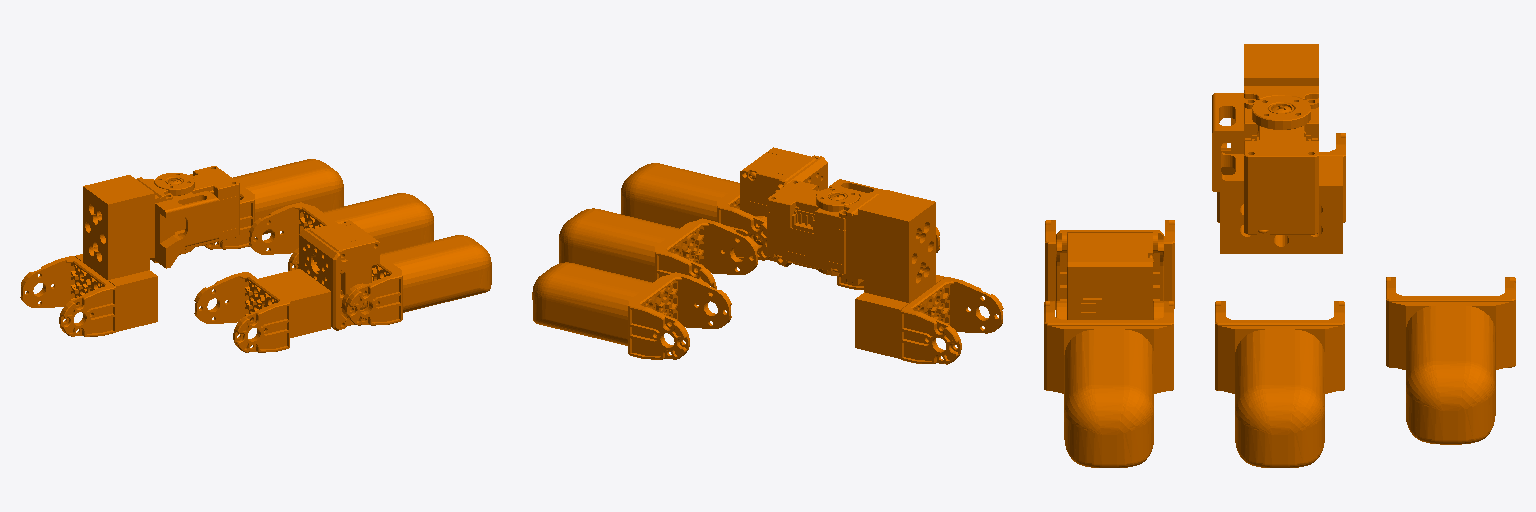
The robot description file, URDF, robot "onshape":
<robot name="onshape">
  <link name="palm_lower">
    <inertial>
      <origin xyz="0.0 0.0 0.0" rpy="0.0 -0.0 0.0"/>
      <mass value="0.237"/>
      <inertia ixx="0.000354094" ixy="-1.193e-06" ixz="-2.445e-06" iyy="0.000260915" iyz="-2.905e-06" izz="0.000529257"/>
    </inertial>
    <visual>
      <geometry>
        <mesh filename="../assets/leap/leap_hand/palm_lower.stl"/>
      </geometry>
      <origin xyz="-0.020095249652862544 0.025757756134899473 -0.034722403578460216" rpy="0.0 -0.0 0.0"/>
      <material name="palm_lower_material">
        <color rgba="0.6039215686274509 0.14901960784313725 0.14901960784313725 1.0"/>
      </material>
    </visual>
    <collision>
      <geometry>
        <mesh filename="../assets/leap/leap_hand/palm_lower.stl"/>
      </geometry>
      <origin xyz="-0.020095249652862544 0.025757756134899473 -0.034722403578460216" rpy="0.0 -0.0 0.0"/>
    </collision>
  </link>
  <link name="mcp_joint">
    <inertial>
      <origin xyz="0.0 0.0 0.0" rpy="0.0 -0.0 0.0"/>
      <mass value="0.044"/>
      <inertia ixx="1.1499e-05" ixy="3.049e-06" ixz="1.21e-07" iyy="7.796e-06" iyz="1.12e-07" izz="1.4759e-05"/>
    </inertial>
    <visual>
      <geometry>
        <mesh filename="../assets/leap/leap_hand/mcp_joint.stl"/>
      </geometry>
      <origin xyz="0.008406902261174496 0.0077662438597169954 0.014657354985032912" rpy="1.6375789613221e-15 -1.021047330249102e-30 1.7177968783327987e-31"/>
      <material name="mcp_joint_material">
        <color rgba="0.8666666666666667 0.8666666666666667 0.050980392156862744 1.0"/>
      </material>
    </visual>
    <collision>
      <geometry>
        <mesh filename="../assets/leap/leap_hand/mcp_joint.stl"/>
      </geometry>
      <origin xyz="0.008406902261174496 0.0077662438597169954 0.014657354985032912" rpy="1.6375789613221e-15 -1.021047330249102e-30 1.7177968783327987e-31"/>
    </collision>
  </link>
  <link name="pip">
    <inertial>
      <origin xyz="0.0 0.0 0.0" rpy="0.0 -0.0 0.0"/>
      <mass value="0.032"/>
      <inertia ixx="4.798e-06" ixy="1.2e-08" ixz="4e-09" iyy="2.862e-06" iyz="1.1e-08" izz="4.234e-06"/>
    </inertial>
    <visual>
      <geometry>
        <mesh filename="../assets/leap/leap_hand/pip.stl"/>
      </geometry>
      <origin xyz="0.009643363092271328 0.0002999999999999895 0.0007840340104173765" rpy="-1.5707963267948966 -1.5707963267948963 0.0"/>
      <material name="pip_material">
        <color rgba="0.7490196078431373 0.7490196078431373 0.7490196078431373 1.0"/>
      </material>
    </visual>
    <collision>
      <geometry>
        <mesh filename="../assets/leap/leap_hand/pip.stl"/>
      </geometry>
      <origin xyz="0.009643363092271328 0.0002999999999999895 0.0007840340104173765" rpy="-1.5707963267948966 -1.5707963267948963 0.0"/>
    </collision>
  </link>
  <link name="dip">
    <inertial>
      <origin xyz="0.0 0.0 0.0" rpy="0.0 -0.0 0.0"/>
      <mass value="0.037"/>
      <inertia ixx="5.542e-06" ixy="-6.07e-07" ixz="-1.7e-08" iyy="5.727e-06" iyz="-2.3e-08" izz="6.682e-06"/>
    </inertial>
    <visual>
      <geometry>
        <mesh filename="../assets/leap/leap_hand/dip.stl"/>
      </geometry>
      <origin xyz="0.021133352895225003 -0.00843211914670488 0.00978508816209524" rpy="-3.141592653589793 4.507511124216441e-32 4.439548105392361e-32"/>
      <material name="dip_material">
        <color rgba="0.8666666666666667 0.8666666666666667 0.050980392156862744 1.0"/>
      </material>
    </visual>
    <collision>
      <geometry>
        <mesh filename="../assets/leap/leap_hand/dip.stl"/>
      </geometry>
      <origin xyz="0.021133352895225003 -0.00843211914670488 0.00978508816209524" rpy="-3.141592653589793 4.507511124216441e-32 4.439548105392361e-32"/>
    </collision>
  </link>
  <link name="fingertip_long">
    <inertial>
      <origin xyz="0.0 0.0 0.0" rpy="0.0 -0.0 0.0"/>
      <mass value="0.016"/>
      <inertia ixx="3.368e-06" ixy="1.15e-07" ixz="0.0" iyy="1.556e-06" iyz="0.0" izz="2.863e-06"/>
    </inertial>
    <visual>
      <geometry>
        <mesh filename="custom_models/fingertip_long.stl"/>
      </geometry>
      <origin xyz="0.013286424108533503 -0.006114238386541987 0.014499999999999498" rpy="3.141592653589793 1.1993117970061735e-33 4.439548105392361e-32"/>
      <material name="fingertip_material">
        <color rgba="0.878 0.467 0.0 1.0"/>
      </material>
    </visual>
    <collision>
      <geometry>
        <mesh filename="custom_models/fingertip_long.stl"/>
      </geometry>
      <origin xyz="0.013286424108533503 -0.006114238386541987 0.014499999999999498" rpy="3.141592653589793 1.1993117970061735e-33 4.439548105392361e-32"/>
    </collision>
  </link>
  <link name="pip_4">
    <inertial>
      <origin xyz="0.0 0.0 0.0" rpy="0.0 -0.0 0.0"/>
      <mass value="0.032"/>
      <inertia ixx="4.798e-06" ixy="1.2e-08" ixz="4e-09" iyy="2.862e-06" iyz="1.1e-08" izz="4.234e-06"/>
    </inertial>
    <visual>
      <geometry>
        <mesh filename="../assets/leap/leap_hand/pip.stl"/>
      </geometry>
      <origin xyz="-0.005356636907728671 0.0002999999999999999 0.0007840340104173782" rpy="-1.5707963267948966 -1.5707963267948963 0.0"/>
      <material name="pip_material">
        <color rgba="0.7490196078431373 0.7490196078431373 0.7490196078431373 1.0"/>
      </material>
    </visual>
    <collision>
      <geometry>
        <mesh filename="../assets/leap/leap_hand/pip.stl"/>
      </geometry>
      <origin xyz="-0.005356636907728671 0.0002999999999999999 0.0007840340104173782" rpy="-1.5707963267948966 -1.5707963267948963 0.0"/>
    </collision>
  </link>
  <link name="thumb_pip">
    <inertial>
      <origin xyz="0.0 0.0 0.0" rpy="0.0 -0.0 0.0"/>
      <mass value="0.003"/>
      <inertia ixx="5.93e-07" ixy="0.0" ixz="0.0" iyy="5.49e-07" iyz="0.0" izz="2.24e-07"/>
    </inertial>
    <visual>
      <geometry>
        <mesh filename="../assets/leap/leap_hand/thumb_pip.stl"/>
      </geometry>
      <origin xyz="0.011961920770611187 -5.30825383648903e-16 -0.0158526489566642" rpy="1.5707963267948966 1.6050198443300153e-46 -3.9204996250525193e-59"/>
      <material name="thumb_pip_material">
        <color rgba="0.8666666666666667 0.8666666666666667 0.050980392156862744 1.0"/>
      </material>
    </visual>
    <collision>
      <geometry>
        <mesh filename="../assets/leap/leap_hand/thumb_pip.stl"/>
      </geometry>
      <origin xyz="0.011961920770611187 -5.30825383648903e-16 -0.0158526489566642" rpy="1.5707963267948966 1.6050198443300153e-46 -3.9204996250525193e-59"/>
    </collision>
  </link>
  <link name="thumb_dip">
    <inertial>
      <origin xyz="0.0 0.0 0.0" rpy="0.0 -0.0 0.0"/>
      <mass value="0.038"/>
      <inertia ixx="8.474e-06" ixy="2.41e-07" ixz="2.6e-08" iyy="3.841e-06" iyz="2.5e-08" izz="7.679e-06"/>
    </inertial>
    <visual>
      <geometry>
        <mesh filename="../assets/leap/leap_hand/thumb_dip.stl"/>
      </geometry>
      <origin xyz="0.043968715707239175 0.0579529529737092 -0.008628676449369476" rpy="1.94289029309401e-16 3.27515792264422e-15 1.112375852965736e-46"/>
      <material name="thumb_dip_material">
        <color rgba="0.8666666666666667 0.8666666666666667 0.050980392156862744 1.0"/>
      </material>
    </visual>
    <collision>
      <geometry>
        <mesh filename="../assets/leap/leap_hand/thumb_dip.stl"/>
      </geometry>
      <origin xyz="0.043968715707239175 0.0579529529737092 -0.008628676449369476" rpy="1.94289029309401e-16 3.27515792264422e-15 1.112375852965736e-46"/>
    </collision>
  </link>
  <link name="thumb_fingertip">
    <inertial>
      <origin xyz="0.0 0.0 0.0" rpy="0.0 -0.0 0.0"/>
      <mass value="0.049"/>
      <inertia ixx="2.0372e-05" ixy="-4.89e-07" ixz="-3e-08" iyy="4.336e-06" iyz="-9.7e-08" izz="1.9845e-05"/>
    </inertial>
    <visual>
      <geometry>
        <mesh filename="../assets/leap/leap_hand/thumb_fingertip.stl"/>
      </geometry>
      <origin xyz="0.06255953846266739 0.07845968291139699 0.048992911807332215" rpy="4.379057701015637e-47 -3.33066907387547e-16 1.2042408677791935e-46"/>
      <material name="thumb_fingertip_material">
        <color rgba="0.6039215686274509 0.14901960784313725 0.14901960784313725 1.0"/>
      </material>
    </visual>
    <collision>
      <geometry>
        <mesh filename="../assets/leap/leap_hand/thumb_fingertip.stl"/>
      </geometry>
      <origin xyz="0.06255953846266739 0.07845968291139699 0.048992911807332215" rpy="4.379057701015637e-47 -3.33066907387547e-16 1.2042408677791935e-46"/>
    </collision>
  </link>
  <link name="mcp_joint_2_long">
    <inertial>
      <origin xyz="0.0 0.0 0.0" rpy="0.0 -0.0 0.0"/>
      <mass value="0.044"/>
      <inertia ixx="1.1499e-05" ixy="3.049e-06" ixz="1.21e-07" iyy="7.796e-06" iyz="1.12e-07" izz="1.4759e-05"/>
    </inertial>
    <visual>
      <geometry>
        <mesh filename="custom_models/mcp_joint_long.stl"/>
      </geometry>
      <origin xyz="0.008406902261174496 0.0077662438597169954 0.014657354985032914" rpy="1.6375789613221e-15 -1.0076465469034e-30 2.1209300131419907e-61"/>
      <material name="mcp_joint_material">
        <color rgba="0.878 0.467 0.0 1.0"/>
      </material>
    </visual>
    <collision>
      <geometry>
        <mesh filename="custom_models/mcp_joint_long.stl"/>
      </geometry>
      <origin xyz="0.008406902261174496 0.0077662438597169954 0.014657354985032914" rpy="1.6375789613221e-15 -1.0076465469034e-30 2.1209300131419907e-61"/>
    </collision>
  </link>
  <link name="pip_2">
    <inertial>
      <origin xyz="0.0 0.0 0.0" rpy="0.0 -0.0 0.0"/>
      <mass value="0.032"/>
      <inertia ixx="4.798e-06" ixy="1.2e-08" ixz="4e-09" iyy="2.862e-06" iyz="1.1e-08" izz="4.234e-06"/>
    </inertial>
    <visual>
      <geometry>
        <mesh filename="../assets/leap/leap_hand/pip.stl"/>
      </geometry>
      <origin xyz="0.009643363092271328 0.0002999999999999947 0.0007840340104173765" rpy="-1.5707963267948966 -1.5707963267948963 0.0"/>
      <material name="pip_material">
        <color rgba="0.7490196078431373 0.7490196078431373 0.7490196078431373 1.0"/>
      </material>
    </visual>
    <collision>
      <geometry>
        <mesh filename="../assets/leap/leap_hand/pip.stl"/>
      </geometry>
      <origin xyz="0.009643363092271328 0.0002999999999999947 0.0007840340104173765" rpy="-1.5707963267948966 -1.5707963267948963 0.0"/>
    </collision>
  </link>
  <link name="dip_2">
    <inertial>
      <origin xyz="0.0 0.0 0.0" rpy="0.0 -0.0 0.0"/>
      <mass value="0.037"/>
      <inertia ixx="5.542e-06" ixy="-6.07e-07" ixz="-1.7e-08" iyy="5.727e-06" iyz="-2.3e-08" izz="6.682e-06"/>
    </inertial>
    <visual>
      <geometry>
        <mesh filename="../assets/leap/leap_hand/dip.stl"/>
      </geometry>
      <origin xyz="0.021133352895225003 -0.008432119146704865 0.009785088162095237" rpy="-3.141592653589793 2.1146933785271956e-32 1.4408183216511869e-31"/>
      <material name="dip_material">
        <color rgba="0.8666666666666667 0.8666666666666667 0.050980392156862744 1.0"/>
      </material>
    </visual>
    <collision>
      <geometry>
        <mesh filename="../assets/leap/leap_hand/dip.stl"/>
      </geometry>
      <origin xyz="0.021133352895225003 -0.008432119146704865 0.009785088162095237" rpy="-3.141592653589793 2.1146933785271956e-32 1.4408183216511869e-31"/>
    </collision>
  </link>
  <link name="fingertip_2_long">
    <inertial>
      <origin xyz="0.0 0.0 0.0" rpy="0.0 -0.0 0.0"/>
      <mass value="0.016"/>
      <inertia ixx="3.368e-06" ixy="1.15e-07" ixz="0.0" iyy="1.556e-06" iyz="0.0" izz="2.863e-06"/>
    </inertial>
    <visual>
      <geometry>
        <mesh filename="custom_models/fingertip_long.stl"/>
      </geometry>
      <origin xyz="0.013286424108533496 -0.006114238386542001 0.014499999999999496" rpy="3.141592653589793 -4.317959788283594e-33 1.4408183216511869e-31"/>
      <material name="fingertip_material">
        <color rgba="0.878 0.467 0.0 1.0"/>
      </material>
    </visual>
    <collision>
      <geometry>
        <mesh filename="custom_models/fingertip_long.stl"/>
      </geometry>
      <origin xyz="0.013286424108533496 -0.006114238386542001 0.014499999999999496" rpy="3.141592653589793 -4.317959788283594e-33 1.4408183216511869e-31"/>
    </collision>
  </link>
  <link name="mcp_joint_3">
    <inertial>
      <origin xyz="0.0 0.0 0.0" rpy="0.0 -0.0 0.0"/>
      <mass value="0.044"/>
      <inertia ixx="1.1499e-05" ixy="3.049e-06" ixz="1.21e-07" iyy="7.796e-06" iyz="1.12e-07" izz="1.4759e-05"/>
    </inertial>
    <visual>
      <geometry>
        <mesh filename="../assets/leap/leap_hand/mcp_joint.stl"/>
      </geometry>
      <origin xyz="0.0084069022611745 0.007766243859716996 0.014657354985032914" rpy="1.6375789613221e-15 -1.0059504988632627e-30 5.729641584552035e-32"/>
      <material name="mcp_joint_material">
        <color rgba="0.8666666666666667 0.8666666666666667 0.050980392156862744 1.0"/>
      </material>
    </visual>
    <collision>
      <geometry>
        <mesh filename="../assets/leap/leap_hand/mcp_joint.stl"/>
      </geometry>
      <origin xyz="0.0084069022611745 0.007766243859716996 0.014657354985032914" rpy="1.6375789613221e-15 -1.0059504988632627e-30 5.729641584552035e-32"/>
    </collision>
  </link>
  <link name="pip_3">
    <inertial>
      <origin xyz="0.0 0.0 0.0" rpy="0.0 -0.0 0.0"/>
      <mass value="0.032"/>
      <inertia ixx="4.798e-06" ixy="1.2e-08" ixz="4e-09" iyy="2.862e-06" iyz="1.1e-08" izz="4.234e-06"/>
    </inertial>
    <visual>
      <geometry>
        <mesh filename="../assets/leap/leap_hand/pip.stl"/>
      </geometry>
      <origin xyz="0.009643363092271331 0.00029999999999998084 0.0007840340104173765" rpy="-1.5707963267948966 -1.5707963267948963 0.0"/>
      <material name="pip_material">
        <color rgba="0.7490196078431373 0.7490196078431373 0.7490196078431373 1.0"/>
      </material>
    </visual>
    <collision>
      <geometry>
        <mesh filename="../assets/leap/leap_hand/pip.stl"/>
      </geometry>
      <origin xyz="0.009643363092271331 0.00029999999999998084 0.0007840340104173765" rpy="-1.5707963267948966 -1.5707963267948963 0.0"/>
    </collision>
  </link>
  <link name="dip_3_long">
    <inertial>
      <origin xyz="0.0 0.0 0.0" rpy="0.0 -0.0 0.0"/>
      <mass value="0.037"/>
      <inertia ixx="5.542e-06" ixy="-6.07e-07" ixz="-1.7e-08" iyy="5.727e-06" iyz="-2.3e-08" izz="6.682e-06"/>
    </inertial>
    <visual>
      <geometry>
        <mesh filename="custom_models/dip_long.stl"/>
      </geometry>
      <origin xyz="0.021133352895225006 -0.008432119146704865 0.009785088162095237" rpy="-3.141592653589793 -1.4095651113919093e-33 1.5565411607615035e-32"/>
      <material name="dip_material">
        <color rgba="0.878 0.467 0.0 1.0"/>
      </material>
    </visual>
    <collision>
      <geometry>
        <mesh filename="custom_models/dip_long.stl"/>
      </geometry>
      <origin xyz="0.021133352895225006 -0.008432119146704865 0.009785088162095237" rpy="-3.141592653589793 -1.4095651113919093e-33 1.5565411607615035e-32"/>
    </collision>
  </link>
  <link name="fingertip_3_long">
    <inertial>
      <origin xyz="0.0 0.0 0.0" rpy="0.0 -0.0 0.0"/>
      <mass value="0.016"/>
      <inertia ixx="3.368e-06" ixy="1.15e-07" ixz="0.0" iyy="1.556e-06" iyz="0.0" izz="2.863e-06"/>
    </inertial>
    <visual>
      <geometry>
        <mesh filename="custom_models/fingertip_long.stl"/>
      </geometry>
      <origin xyz="0.013286424108533501 -0.006114238386541987 0.0144999999999995" rpy="3.141592653589793 8.61707169505754e-33 1.5565411607615035e-32"/>
      <material name="fingertip_material">
        <color rgba="0.878 0.467 0.0 1.0"/>
      </material>
    </visual>
    <collision>
      <geometry>
        <mesh filename="custom_models/fingertip_long.stl"/>
      </geometry>
      <origin xyz="0.013286424108533501 -0.006114238386541987 0.0144999999999995" rpy="3.141592653589793 8.61707169505754e-33 1.5565411607615035e-32"/>
    </collision>
  </link>
  <joint name="1" type="revolute">
    <parent link="palm_lower"/>
    <child link="mcp_joint"/>
    <origin xyz="-0.007095249652862546 0.023057756134899472 -0.01872240357846022" rpy="1.570796326794895 1.5707963267948946 0.0"/>
    <axis xyz="0.0 0.0 -1.0"/>
    <limit effort="0.95" velocity="8.48" lower="-0.314" upper="2.23"/>
  </joint>
  <joint name="0" type="revolute">
    <parent link="mcp_joint"/>
    <child link="pip"/>
    <origin xyz="-0.012200000000000008 0.038099999999999995 0.0145" rpy="-1.5707963267948966 -1.0065212660796337e-15 1.5707963267948943"/>
    <axis xyz="0.0 0.0 -1.0"/>
    <limit effort="0.95" velocity="8.48" lower="-1.047" upper="1.047"/>
  </joint>
  <joint name="2" type="revolute">
    <parent link="pip"/>
    <child link="dip"/>
    <origin xyz="0.014999999999999968 0.014299999999999905 -0.012999999999999824" rpy="1.570796326794896 -1.5707963267948963 0.0"/>
    <axis xyz="0.0 0.0 -1.0"/>
    <limit effort="0.95" velocity="8.48" lower="-0.506" upper="1.885"/>
  </joint>
  <joint name="3" type="revolute">
    <parent link="dip"/>
    <child link="fingertip_long"/>
    <origin xyz="-4.088058249557269e-09 -0.03610000421036737 0.0002000000000000786" rpy="4.5935029425113685e-17 -2.8730071914463795e-16 4.439548105392361e-32"/>
    <axis xyz="0.0 0.0 -1.0"/>
    <limit effort="0.95" velocity="8.48" lower="-0.366" upper="2.042"/>
  </joint>
  <joint name="12" type="revolute">
    <parent link="palm_lower"/>
    <child link="pip_4"/>
    <origin xyz="-0.06939524965286253 -0.0012422438651005258 -0.021622403578460216" rpy="-8.238176646493942e-17 1.5707963267948957 0.0"/>
    <axis xyz="0.0 0.0 -1.0"/>
    <limit effort="0.95" velocity="8.48" lower="-0.349" upper="2.094"/>
  </joint>
  <joint name="13" type="revolute">
    <parent link="pip_4"/>
    <child link="thumb_pip"/>
    <origin xyz="-2.7755575615628914e-17 0.014300000000000005 -0.013000000000000012" rpy="1.570796326794896 -1.5707963267948963 0.0"/>
    <axis xyz="0.0 0.0 -1.0"/>
    <limit effort="0.95" velocity="8.48" lower="-0.47" upper="2.443"/>
  </joint>
  <joint name="14" type="revolute">
    <parent link="thumb_pip"/>
    <child link="thumb_dip"/>
    <origin xyz="0.0 0.014499999999999966 -0.017000000000000053" rpy="-1.5707963267948966 1.6050198443300131e-46 -1.9721522630516625e-31"/>
    <axis xyz="0.0 0.0 -1.0"/>
    <limit effort="0.95" velocity="8.48" lower="-1.2" upper="1.9"/>
  </joint>
  <joint name="15" type="revolute">
    <parent link="thumb_dip"/>
    <child link="thumb_fingertip"/>
    <origin xyz="-1.249000902703301e-16 0.046599999999999864 0.0001999999999999771" rpy="1.506395849149178e-44 5.423418723393526e-31 3.141592653589793"/>
    <axis xyz="0.0 0.0 -1.0"/>
    <limit effort="0.95" velocity="8.48" lower="-1.34" upper="1.88"/>
  </joint>
  <joint name="5" type="revolute">
    <parent link="palm_lower"/>
    <child link="mcp_joint_2_long"/>
    <origin xyz="-0.007095249652862546 -0.022392243865100525 -0.01872240357846022" rpy="1.570796326794895 1.5707963267948946 0.0"/>
    <axis xyz="0.0 0.0 -1.0"/>
    <limit effort="0.95" velocity="8.48" lower="-0.314" upper="2.23"/>
  </joint>
  <joint name="4" type="revolute">
    <parent link="mcp_joint_2_long"/>
    <child link="pip_2"/>
    <origin xyz="-0.012200000000000007713 0.053099999999999994982 0.014500000000000000736" rpy="-1.5707963267948966 -1.0065212660796337e-15 1.5707963267948943"/>
    <axis xyz="0.0 0.0 -1.0"/>
    <limit effort="0.95" velocity="8.48" lower="-1.047" upper="1.047"/>
  </joint>
  <joint name="6" type="revolute">
    <parent link="pip_2"/>
    <child link="dip_2"/>
    <origin xyz="0.014999999999999968 0.014299999999999905 -0.012999999999999824" rpy="1.570796326794896 -1.5707963267948963 0.0"/>
    <axis xyz="0.0 0.0 -1.0"/>
    <limit effort="0.95" velocity="8.48" lower="-0.506" upper="1.885"/>
  </joint>
  <joint name="7" type="revolute">
    <parent link="dip_2"/>
    <child link="fingertip_2_long"/>
    <origin xyz="-4.088058249557269e-09 -0.03610000421036737 0.0002000000000000786" rpy="4.5935029425113685e-17 -2.8730071914463795e-16 4.439548105392361e-32"/>
    <axis xyz="0.0 0.0 -1.0"/>
    <limit effort="0.95" velocity="8.48" lower="-0.366" upper="2.042"/>
  </joint>
  <joint name="9" type="revolute">
    <parent link="palm_lower"/>
    <child link="mcp_joint_3"/>
    <origin xyz="-0.007095249652862546 -0.06784224386510052 -0.01872240357846022" rpy="1.570796326794895 1.5707963267948946 0.0"/>
    <axis xyz="0.0 0.0 -1.0"/>
    <limit effort="0.95" velocity="8.48" lower="-0.314" upper="2.23"/>
  </joint>
  <joint name="8" type="revolute">
    <parent link="mcp_joint_3"/>
    <child link="pip_3"/>
    <origin xyz="-0.012200000000000008 0.038099999999999995 0.0145" rpy="-1.5707963267948966 -1.0065212660796337e-15 1.5707963267948943"/>
    <axis xyz="0.0 0.0 -1.0"/>
    <limit effort="0.95" velocity="8.48" lower="-1.047" upper="1.047"/>
  </joint>
  <joint name="10" type="revolute">
    <parent link="pip_3"/>
    <child link="dip_3_long"/>
    <origin xyz="0.014999999999999968 0.014299999999999905 -0.012999999999999824" rpy="1.570796326794896 -1.5707963267948963 0.0"/>
    <axis xyz="0.0 0.0 -1.0"/>
    <limit effort="0.95" velocity="8.48" lower="-0.506" upper="1.885"/>
  </joint>
  <joint name="11" type="revolute">
    <parent link="dip_3_long"/>
    <child link="fingertip_3_long"/>
    <origin xyz="-4.0880582495572692636e-09 -0.051100004210367367397 0.00020000000000007858714" rpy="4.5935029425113685e-17 -2.8730071914463795e-16 4.439548105392361e-32"/>
    <axis xyz="0.0 0.0 -1.0"/>
    <limit effort="0.95" velocity="8.48" lower="-0.366" upper="2.042"/>
  </joint>
</robot>

--- Render facts (derived) ---
The picture shows the robot from 3 angles, left to right: view 1: azimuth 30°, elevation 25°; view 2: azimuth 150°, elevation 25°; view 3: azimuth 270°, elevation 25°; orthographic projection.
Model onshape with 17 links and 16 joints (16 revolute), rooted at palm_lower, posed all joints at 0.
Visible links, largest first — view 1: mcp_joint_2_long, dip_3_long, fingertip_3_long, fingertip_2_long, fingertip_long; view 2: mcp_joint_2_long, fingertip_long, fingertip_2_long, fingertip_3_long, dip_3_long; view 3: mcp_joint_2_long, fingertip_long, fingertip_2_long, fingertip_3_long, dip_3_long.
Link boxes in pixels (x1,y1,x2,y2): mcp_joint_2_long: (20, 166, 239, 336); dip_3_long: (194, 220, 379, 352); fingertip_3_long: (345, 235, 491, 325); fingertip_2_long: (249, 193, 433, 270); fingertip_long: (189, 159, 343, 249); mcp_joint_2_long: (767, 179, 1003, 364); fingertip_long: (532, 262, 731, 359); fingertip_2_long: (559, 208, 757, 304); fingertip_3_long: (621, 163, 770, 260); dip_3_long: (740, 147, 939, 289); mcp_joint_2_long: (1212, 44, 1345, 253); fingertip_long: (1386, 277, 1515, 444); fingertip_2_long: (1215, 301, 1344, 467); fingertip_3_long: (1044, 301, 1173, 467); dip_3_long: (1045, 220, 1174, 319).
Bounding box of the posed robot: 0.1766 × 0.1255 × 0.0549 m (x, y, z).
Meshes: 10 distinct files referenced, 5 mesh visuals loaded (3 binary STL); not drawn: 12 (reference not matched to a file when rendering).